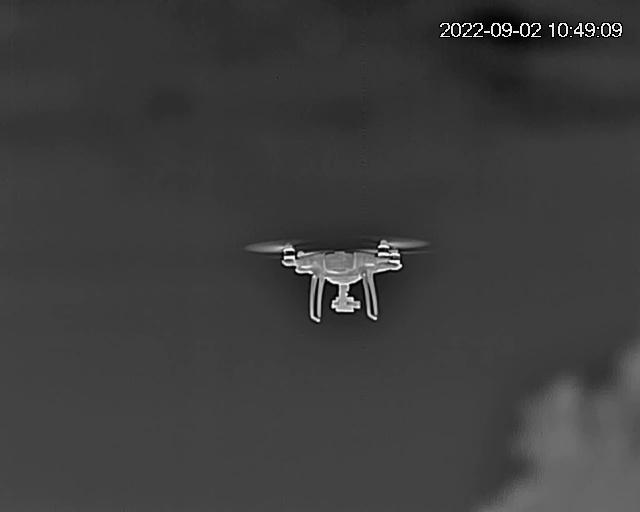DJI-Phantom: (242, 236, 438, 322)
